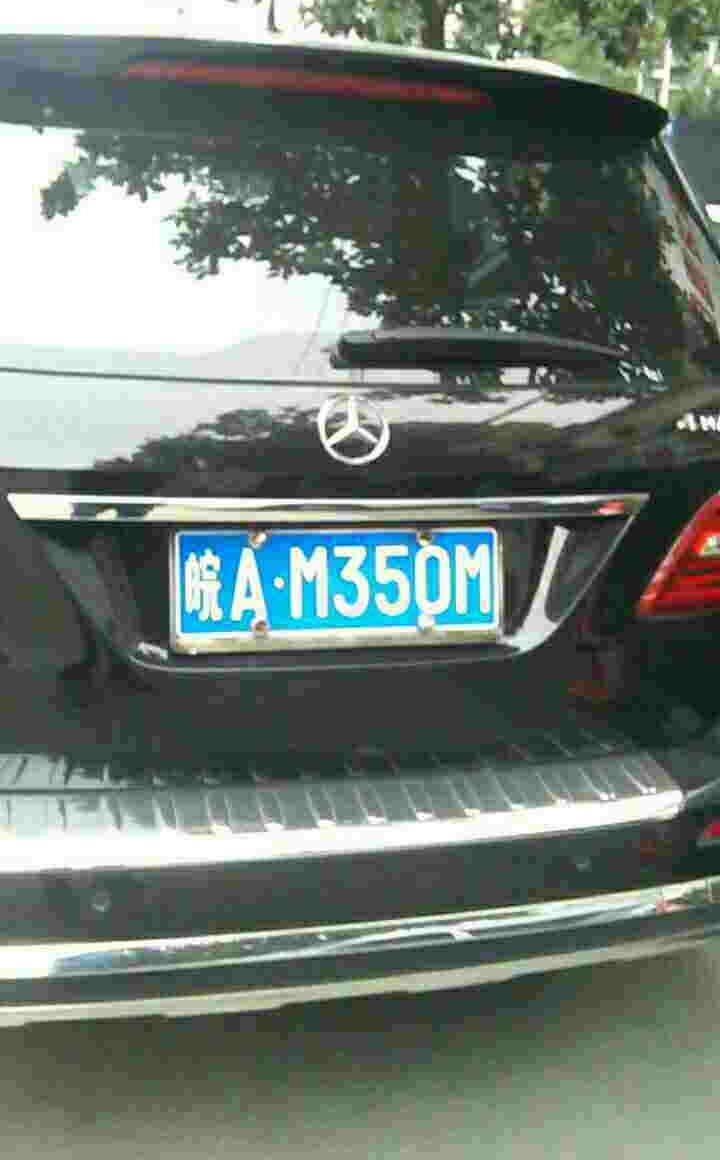car: (167, 507, 518, 635)
